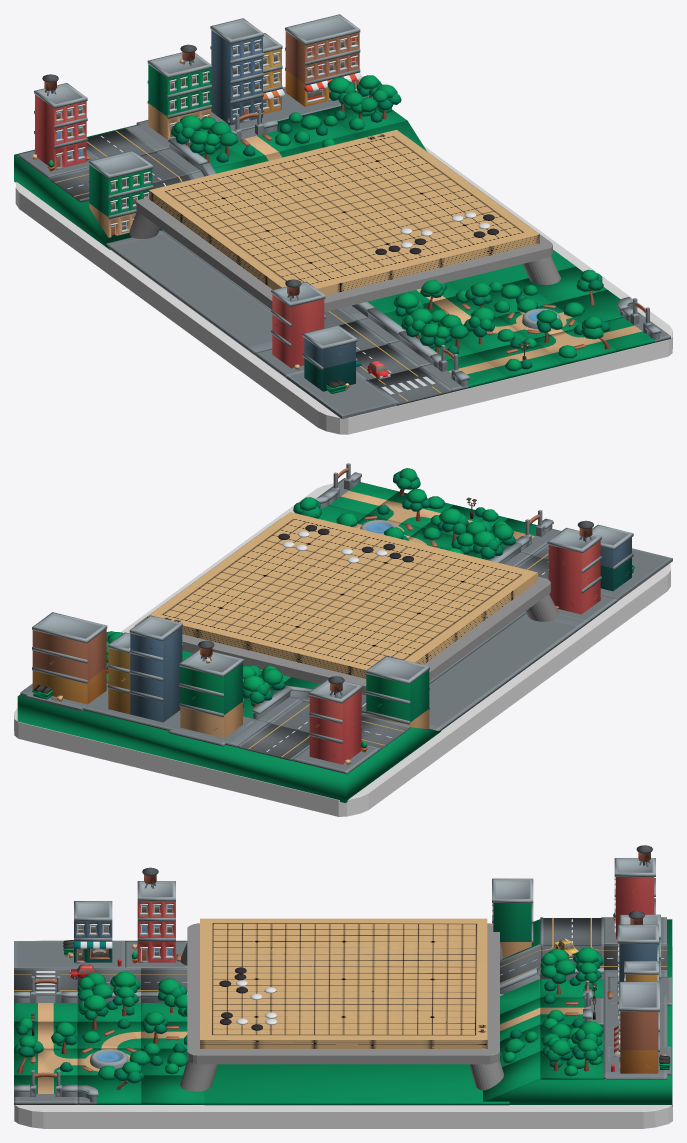
The picture shows the model from 3 angles, top to bottom: view 1: azimuth 30°, elevation 25°; view 2: azimuth 150°, elevation 25°; view 3: azimuth 270°, elevation 25°; orthographic projection.
Parts seen in each view (by area): view 1: Cube, Cube.001, base.001, Cube.002, building_H_withoutBase.001, building_E.001, building_A.001, building_C.002, building_D.001, building_D_withoutBase.001, building_C.001, park_base_decorated_trees.001 (+28 smaller); view 2: Cube, Cube.001, park_base.004, base.001, building_H_withoutBase.001, building_E.001, building_D.001, building_C.002, Cube.002, building_C.001, building_D_withoutBase.001, building_A.001 (+14 smaller); view 3: Cube, Cube.001, park_base.002, Cube.002, park_base.004, building_A.001, building_E.001, building_C.001, park_base_decorated_trees.001, building_C.002, building_D_withoutBase.001, park_wall_straight_decorated.002 (+31 smaller).
Boxes of the visible parts, box(x1,y1,x2,y2) form: Cube: box(149, 129, 539, 295); Cube.001: box(15, 145, 672, 434); base.001: box(106, 230, 272, 355); Cube.002: box(136, 136, 552, 311); building_H_withoutBase.001: box(210, 18, 284, 125); building_E.001: box(282, 14, 362, 111); building_A.001: box(287, 325, 396, 418); building_C.002: box(17, 74, 96, 178); building_D.001: box(136, 44, 211, 145); building_D_withoutBase.001: box(88, 150, 153, 237); building_C.001: box(255, 279, 325, 378); park_base_decorated_trees.001: box(321, 75, 406, 133); Cube: box(147, 512, 537, 678); Cube.001: box(14, 483, 670, 816); park_base.004: box(17, 694, 440, 802); base.001: box(429, 612, 586, 731); building_H_withoutBase.001: box(107, 615, 182, 722); building_E.001: box(26, 612, 108, 711); building_D.001: box(168, 640, 253, 746); building_C.002: box(292, 676, 378, 774); Cube.002: box(134, 518, 550, 695); building_C.001: box(547, 520, 617, 624); building_D_withoutBase.001: box(365, 656, 429, 729); building_A.001: box(592, 524, 672, 601); Cube: box(200, 918, 487, 1048); Cube.001: box(14, 940, 672, 1128); park_base.002: box(204, 1064, 509, 1105); Cube.002: box(187, 923, 499, 1064); park_base.004: box(488, 919, 672, 1106); building_A.001: box(14, 901, 124, 967); building_E.001: box(607, 981, 671, 1075); building_C.001: box(125, 867, 187, 967); park_base_decorated_trees.001: box(540, 1021, 603, 1079); building_C.002: box(603, 845, 666, 944); building_D_withoutBase.001: box(492, 878, 533, 958); park_wall_straight_decorated.002: box(540, 947, 603, 997).
Bounding box in the file's own units: 19.3 × 6.76 × 31.23.
Materials: 59 (47 with a texture image).
